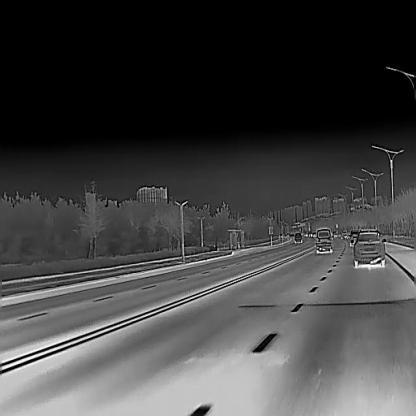car: (350, 229, 386, 267), (315, 228, 334, 254), (349, 230, 359, 245), (294, 231, 304, 243), (340, 230, 348, 239), (332, 231, 338, 238), (341, 234, 348, 239), (310, 232, 316, 237), (305, 231, 310, 236)
